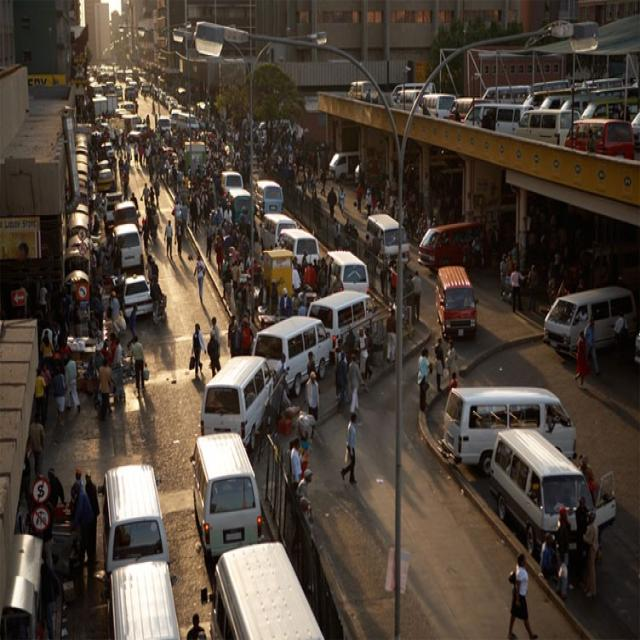MiniBus taxi: (488, 426, 608, 584), (185, 432, 264, 554), (537, 283, 640, 360), (199, 357, 281, 442), (251, 315, 332, 398), (430, 265, 482, 339), (514, 106, 580, 154), (462, 100, 534, 142), (362, 210, 412, 267), (562, 119, 633, 159)
Pedestrians: (504, 554, 540, 639), (340, 407, 364, 493)
